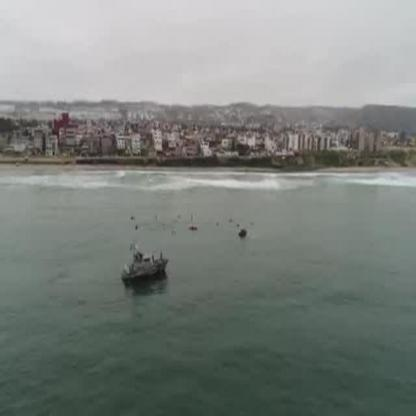Boat: (120, 241, 167, 288)
